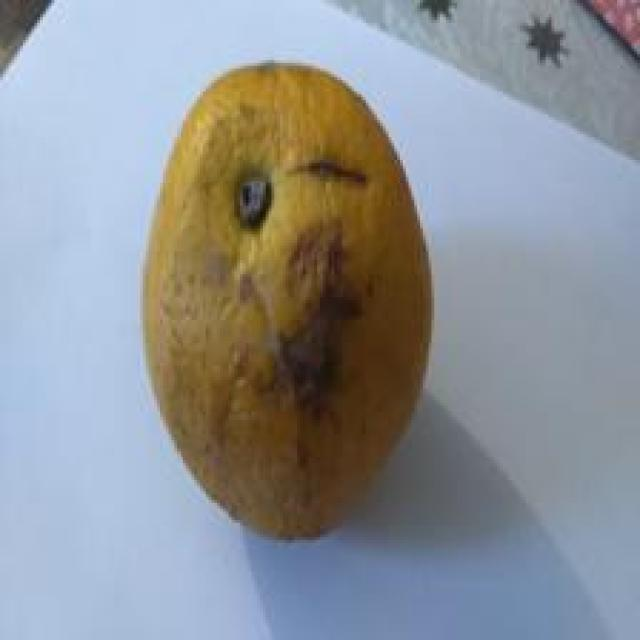overripe: (140, 57, 440, 545)
